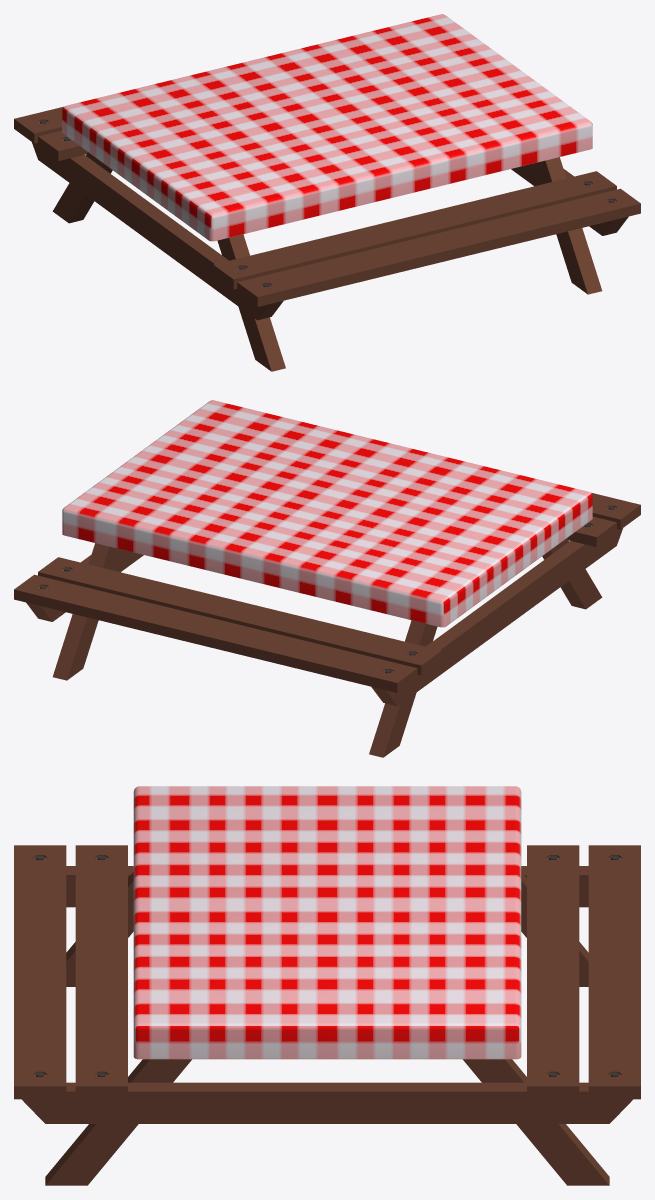
File: c9acb751-6f4e-4be4-a1a2-1c4b76b455c2.glb
3 views of the same model, one above another, from view 1: azimuth 30°, elevation 25°; view 2: azimuth 150°, elevation 25°; view 3: azimuth 270°, elevation 25° (orthographic). The views are drawn at different scales.
Parts seen in each view (by area): view 1: PicnicCloth, PicnicTable; view 2: PicnicCloth, PicnicTable; view 3: PicnicCloth, PicnicTable.
Boxes of the visible parts, x1,y1,x2,y2 form: PicnicCloth: [62, 14, 592, 241]; PicnicTable: [14, 106, 640, 371]; PicnicCloth: [62, 400, 592, 627]; PicnicTable: [14, 492, 640, 757]; PicnicCloth: [133, 786, 521, 1059]; PicnicTable: [14, 845, 640, 1185].
Size of what is drawn, in the model's own units: 2 by 0.6857 by 2.2.
Materials: 2 (2 with a texture image).
